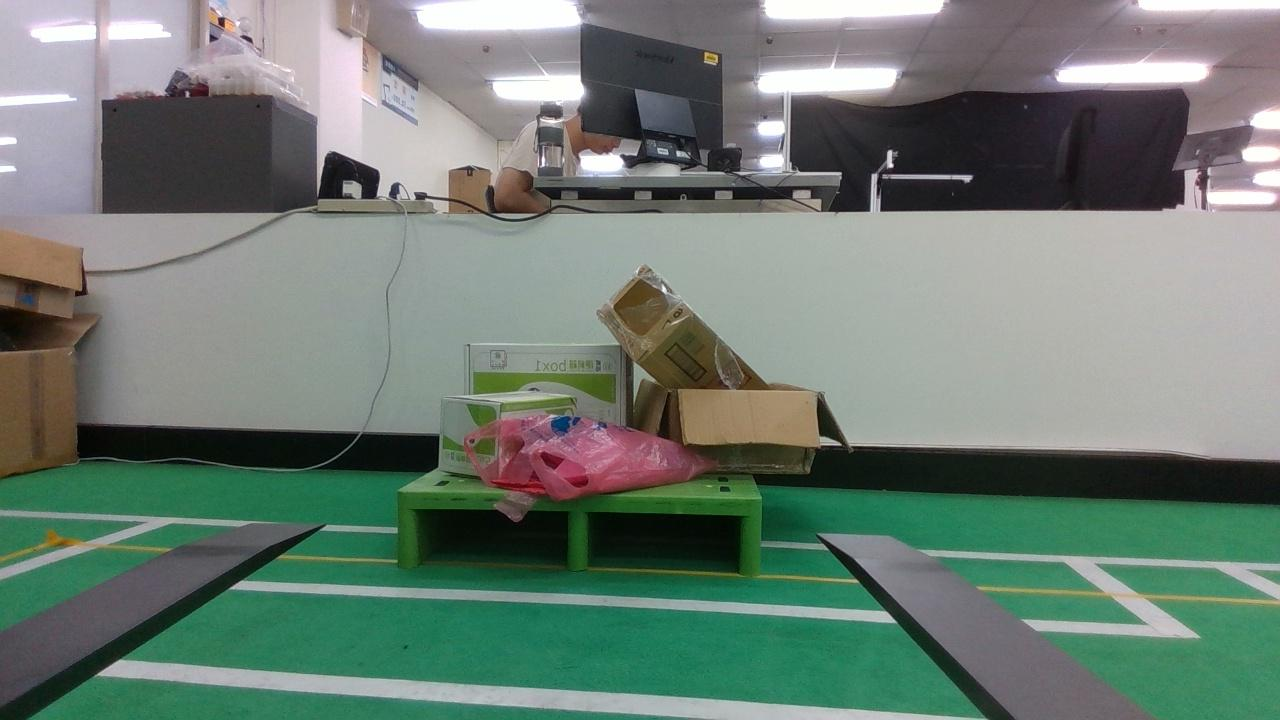Pallet: (397, 492, 762, 575)
